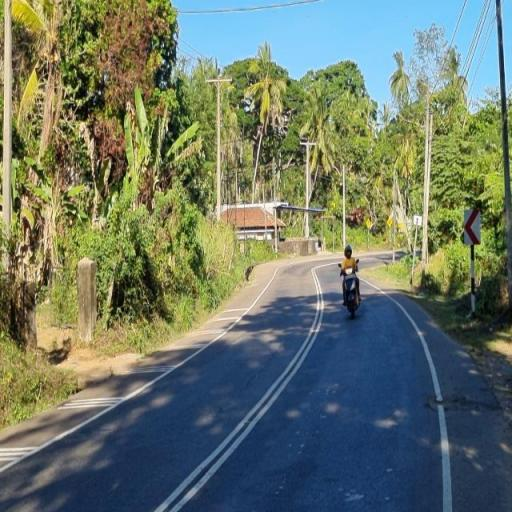double_white_line: (148, 261, 326, 512)
